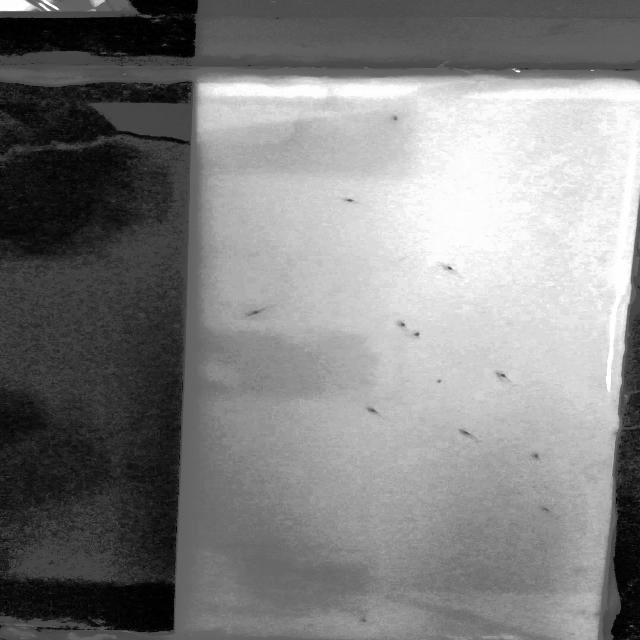shrimp: (516, 448, 554, 463), (361, 405, 392, 421), (236, 305, 274, 318), (434, 261, 463, 276), (489, 367, 514, 384), (383, 111, 407, 127), (336, 194, 362, 207), (452, 427, 479, 439), (529, 504, 555, 516), (409, 330, 433, 342), (356, 614, 377, 626), (386, 319, 410, 327)
